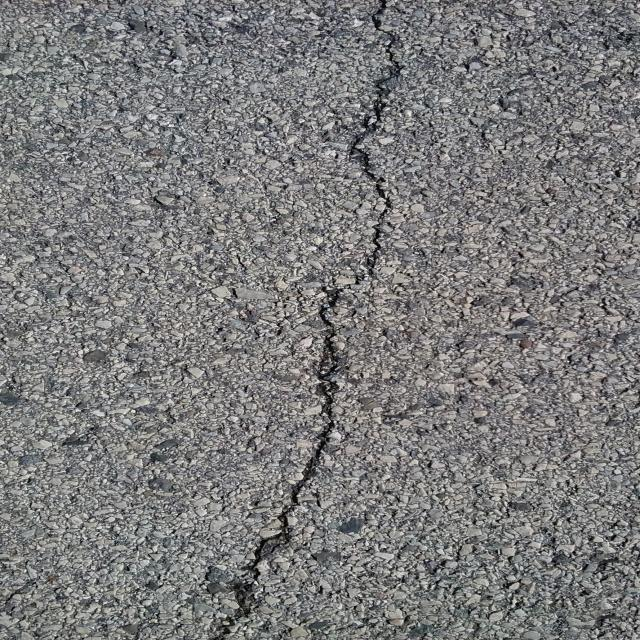Crack: (208, 0, 410, 640)
